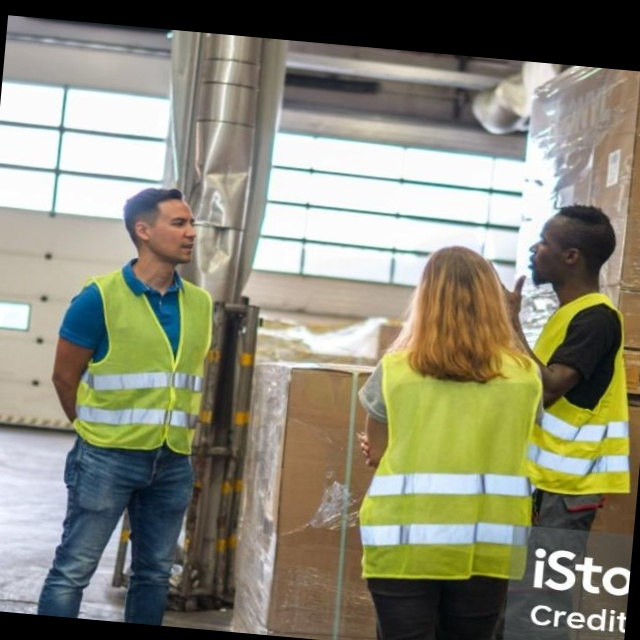Con_Chaleco: (362, 342, 546, 592), (59, 273, 221, 456), (522, 292, 640, 497)
Sin_Casco_Mascarrilla: (410, 240, 510, 347), (524, 200, 624, 298), (117, 184, 203, 271)
